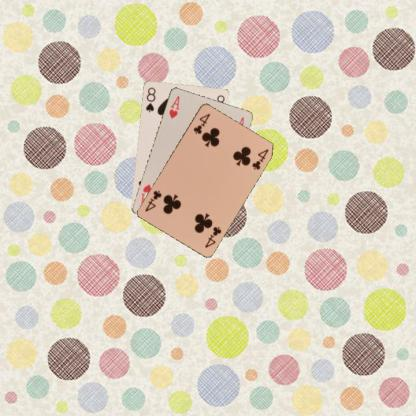4c: (190, 110, 212, 136), (201, 224, 222, 249)
8s: (143, 85, 157, 113)
Ah: (166, 93, 181, 120)
